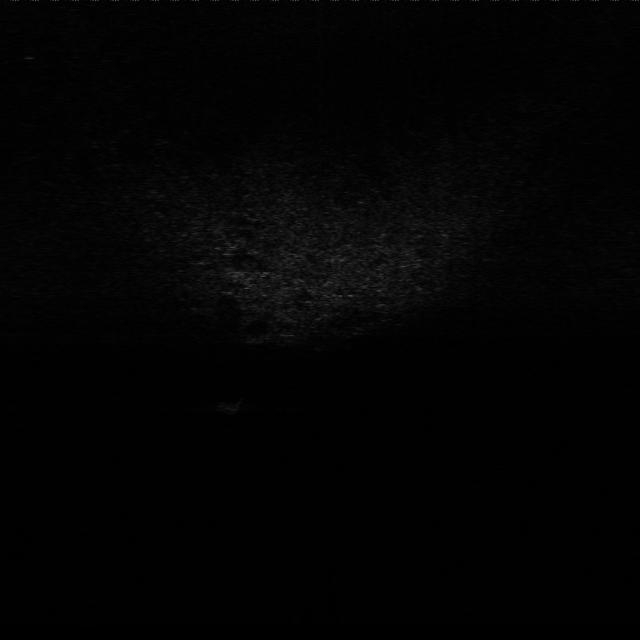cube: (217, 396, 247, 416)
